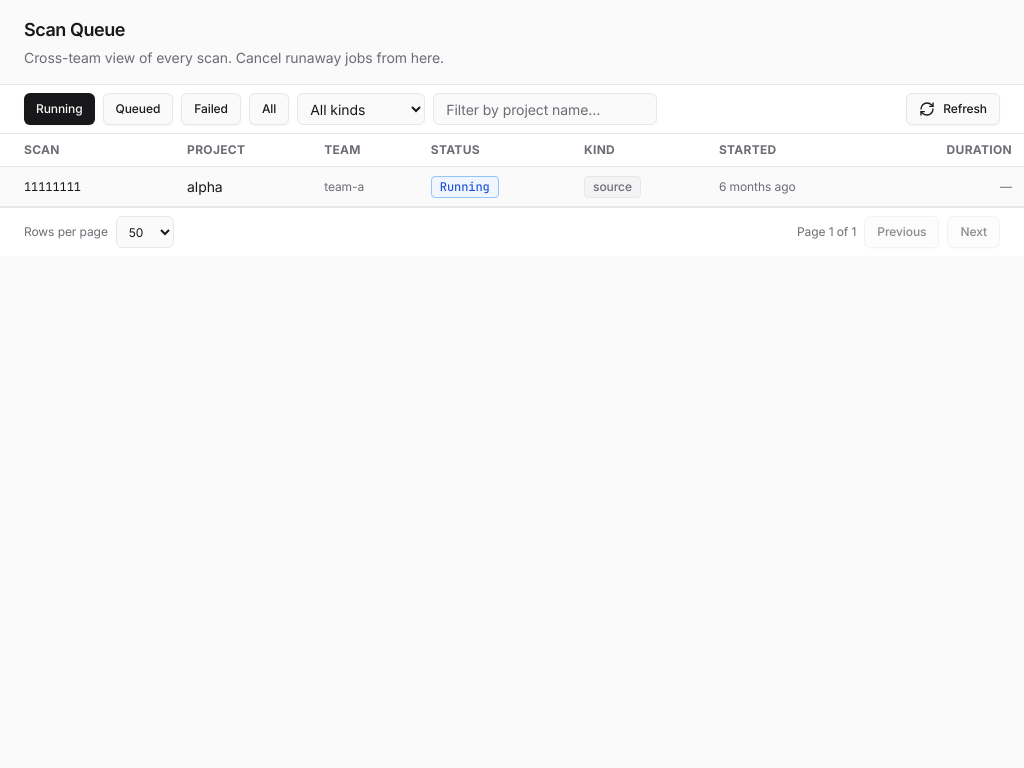
Scenario: AdminScansPage › keeps the drawer open when the scan leaves the list (B1)
Click the row with test id "admin-scans-row" at (512,186), box [0, 166, 1023, 206]
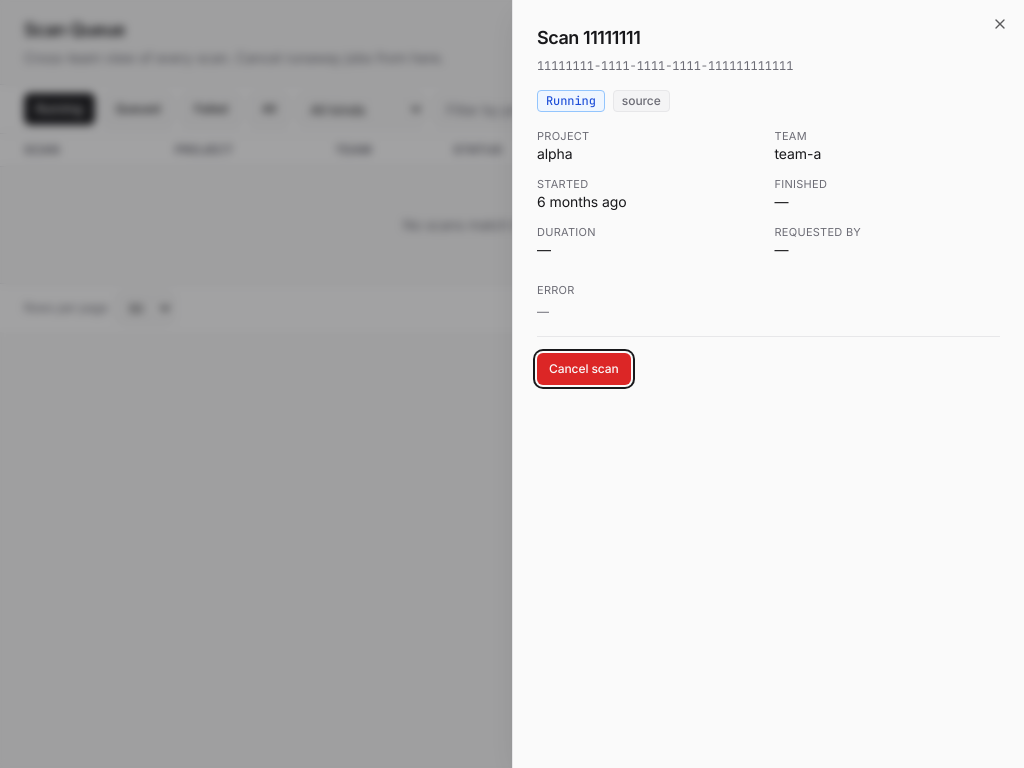
Expected: the text with test id "admin-scan-project" reads "alpha", [537, 145, 573, 162]
Expected: the row with test id "admin-scans-row" is gone
Expected: the dialog with test id "admin-scan-drawer" is shown, [512, 0, 1023, 767]
